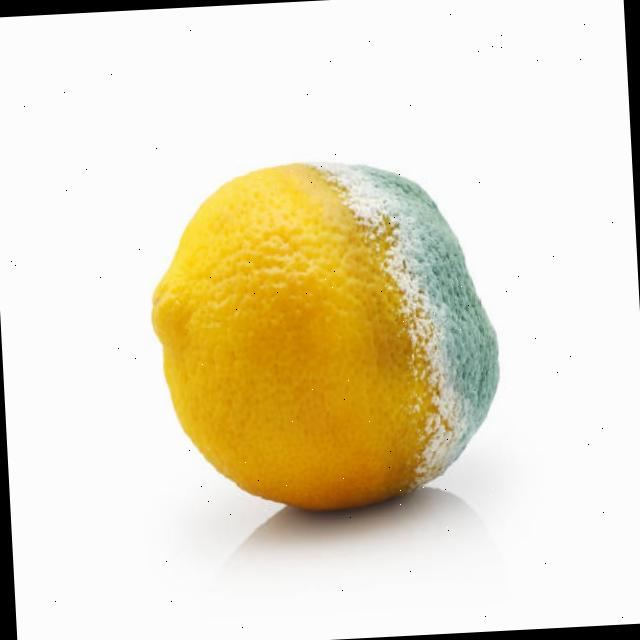Rotten: (142, 148, 508, 518)
